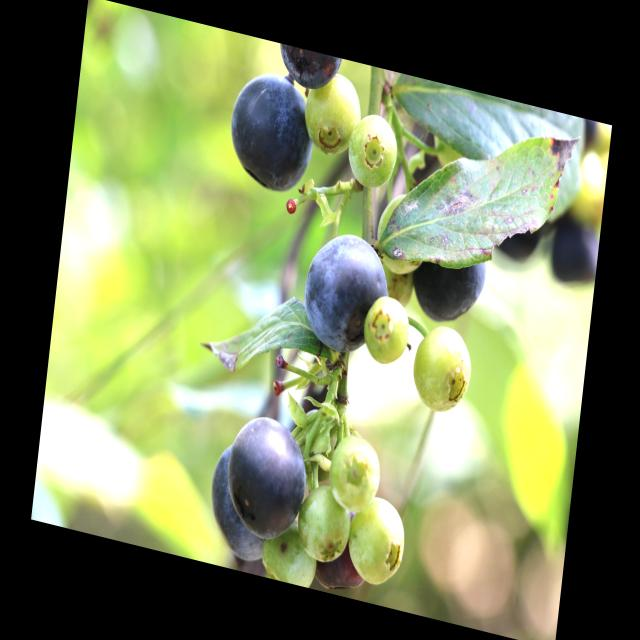blueberry: (300, 221, 392, 363), (222, 408, 314, 548), (221, 70, 317, 204), (196, 436, 272, 568), (406, 236, 489, 330), (267, 41, 345, 95), (310, 534, 368, 601)
blueberry-unripe: (404, 316, 479, 424), (300, 65, 366, 160), (344, 492, 409, 588), (258, 508, 326, 590), (294, 485, 357, 571), (342, 107, 404, 194), (326, 432, 383, 517), (357, 290, 414, 374)
